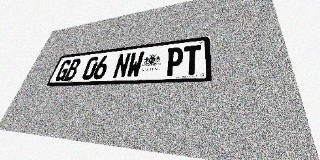0: (81, 56, 100, 80)
6: (92, 55, 111, 80)
B: (63, 58, 82, 81)
G: (54, 59, 73, 81)
N: (112, 53, 131, 79)
P: (165, 47, 184, 76)
T: (182, 45, 201, 75)
W: (125, 51, 145, 78)
